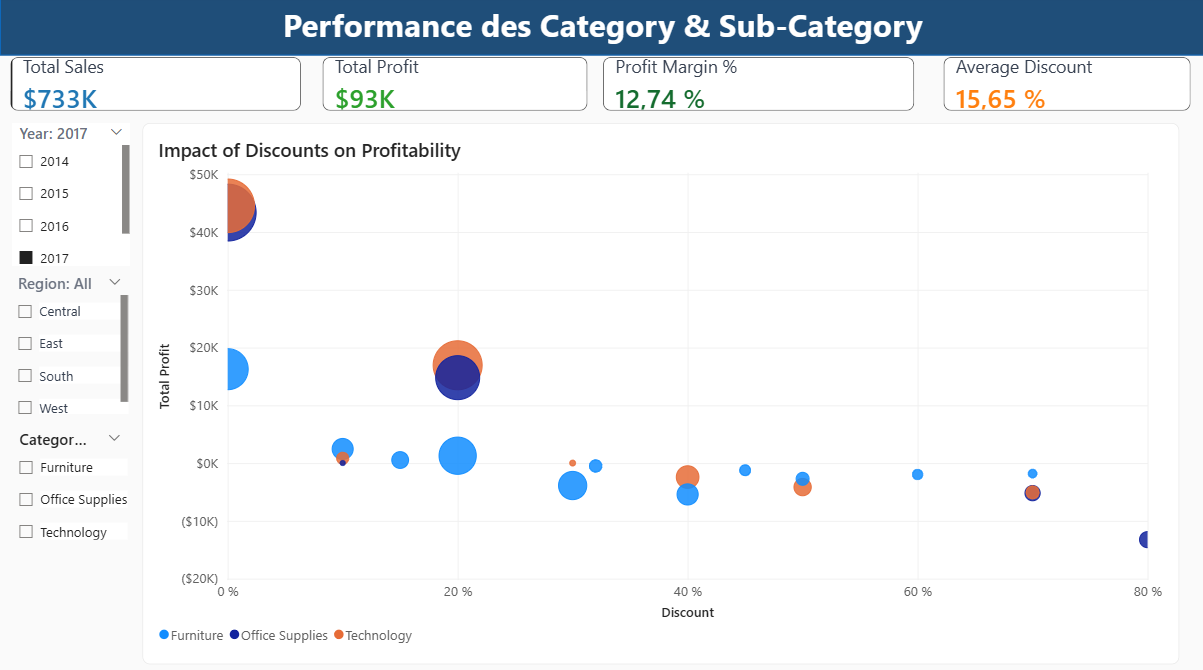

The dashboard page shown, as its layout file describes it:
{"tool":"powerbi","page":{"name":"Duplicate of Vue globale ","canvas":[1280,720],"ordinal":3},"visuals":[{"type":"shape","box":[0,0,1278.9,65.2],"z":0},{"type":"cardVisual","fields":{"Data":["Mes mesures.Total Sales"]},"box":[11.1,66.8,308.6,57.3],"z":1000},{"type":"cardVisual","fields":{"Data":["Mes mesures.Total Profit"]},"box":[342,66.8,281.5,57.3],"z":2000},{"type":"cardVisual","fields":{"Data":["Mes mesures.Profit Margin %"]},"box":[639.4,66.8,330.8,57.3],"z":4000},{"type":"cardVisual","fields":{"Data":["Mes mesures.Average Discount"]},"box":[1000.5,66.8,262.5,57.3],"z":5000},{"type":"slicer","fields":{"Values":["Calendar.Year"]},"box":[12.9,137.5,124.6,150.4],"z":6000},{"type":"slicer","fields":{"Values":["Sample - Superstore.Region"]},"box":[11.5,296.5,124.6,149],"z":7000},{"type":"slicer","fields":{"Values":["Sample - Superstore.Category"]},"box":[12.7,461.3,122.5,140],"z":12000},{"type":"scatterChart","title":"Impact of Discounts on Profitability","fields":{"X":["Sample - Superstore.Discount"],"Size":["Mes mesures.Total Sales"],"Series":["Sample - Superstore.Category"],"Y":["Mes mesures.Total Profit"]},"box":[151.1,136.8,1099.1,574.2],"z":13000}]}

Visuals, with their boxes in screenshot pixels (x1, y1, x2, y2), scaled from the page's 1280x720 canvas onto the 1203x670 screenshot:
shape: <bbox>0, 0, 1202, 61</bbox>
cardVisual - Mes mesures.Total Sales: <bbox>10, 62, 300, 115</bbox>
cardVisual - Mes mesures.Total Profit: <bbox>321, 62, 586, 115</bbox>
cardVisual - Mes mesures.Profit Margin %: <bbox>601, 62, 912, 115</bbox>
cardVisual - Mes mesures.Average Discount: <bbox>940, 62, 1187, 115</bbox>
slicer - Calendar.Year: <bbox>12, 128, 129, 268</bbox>
slicer - Sample - Superstore.Region: <bbox>11, 276, 128, 415</bbox>
slicer - Sample - Superstore.Category: <bbox>12, 429, 127, 560</bbox>
"Impact of Discounts on Profitability" scatterChart: <bbox>142, 127, 1175, 662</bbox>
